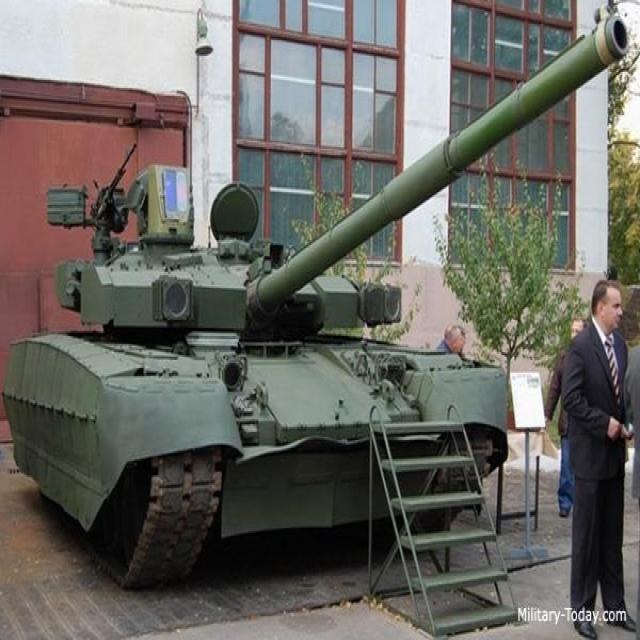MIL_MBT: (5, 135, 527, 638)
